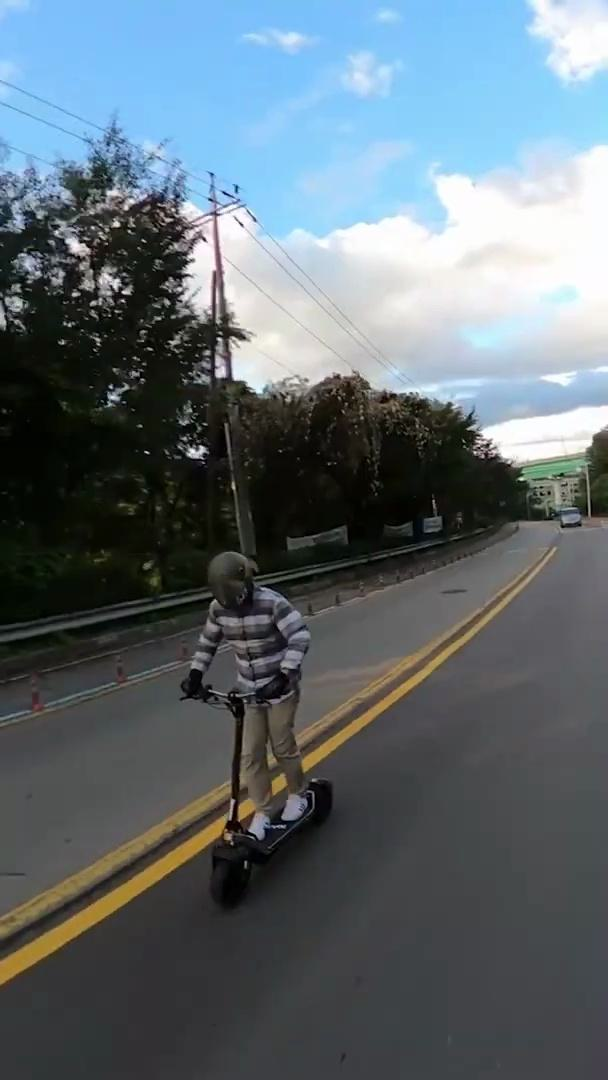helmet: (178, 546, 337, 915)
